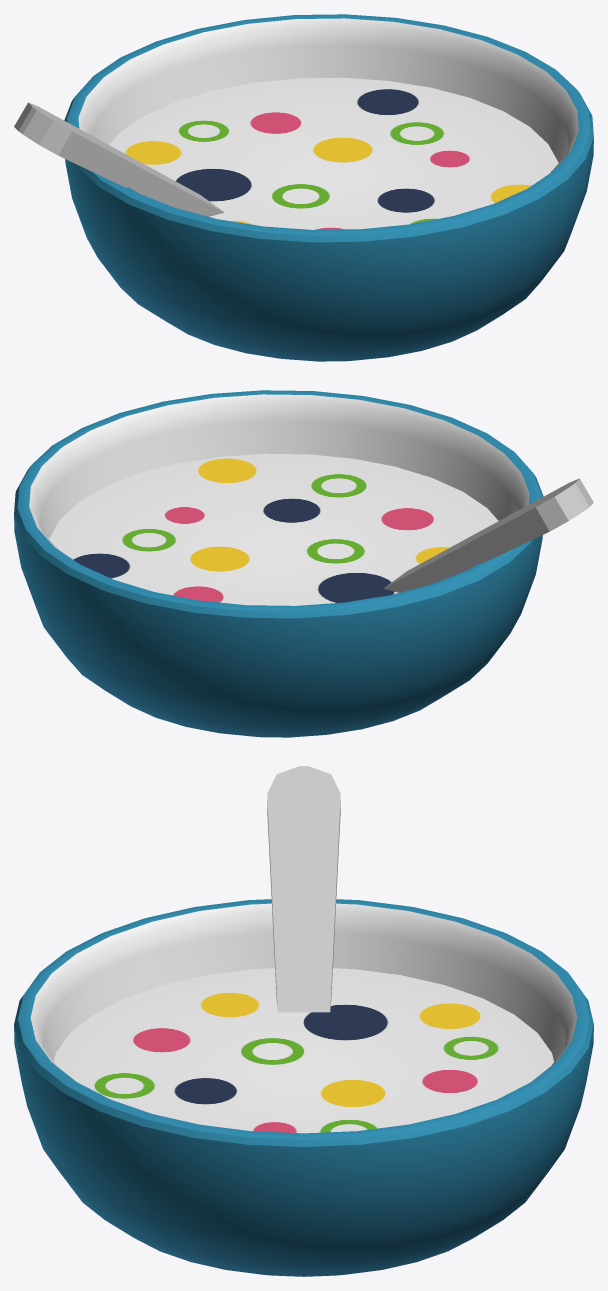
The model's file is Corn Flakes.fbx.
3 renders of one model, top to bottom at view 1: azimuth 30°, elevation 25°; view 2: azimuth 150°, elevation 25°; view 3: azimuth 270°, elevation 25°, orthographic. The views are drawn at different scales.
Visible parts, largest first — view 1: Corn Flakes; view 2: Corn Flakes; view 3: Corn Flakes.
Part boxes in pixels (x1=…): Corn Flakes: x1=14, y1=14, x2=593, y2=361; Corn Flakes: x1=14, y1=390, x2=593, y2=737; Corn Flakes: x1=14, y1=766, x2=593, y2=1276.
Bounding box in the file's own units: 16.67 × 8.12 × 14.26.
